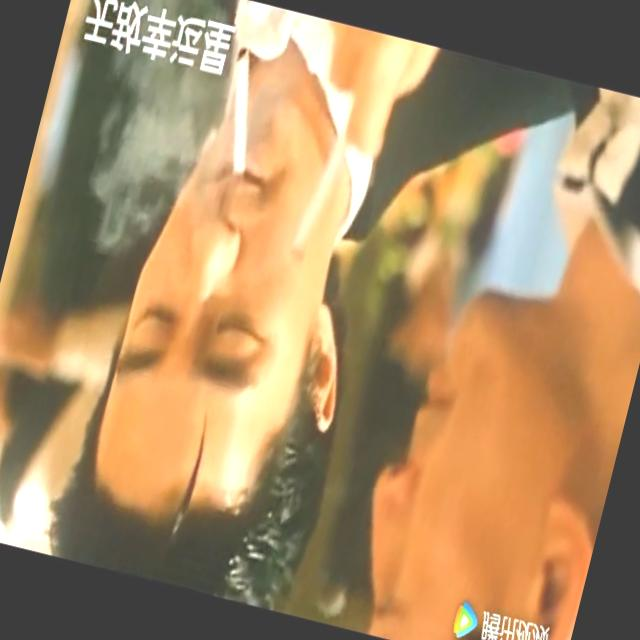cigarette: (208, 44, 276, 174)
